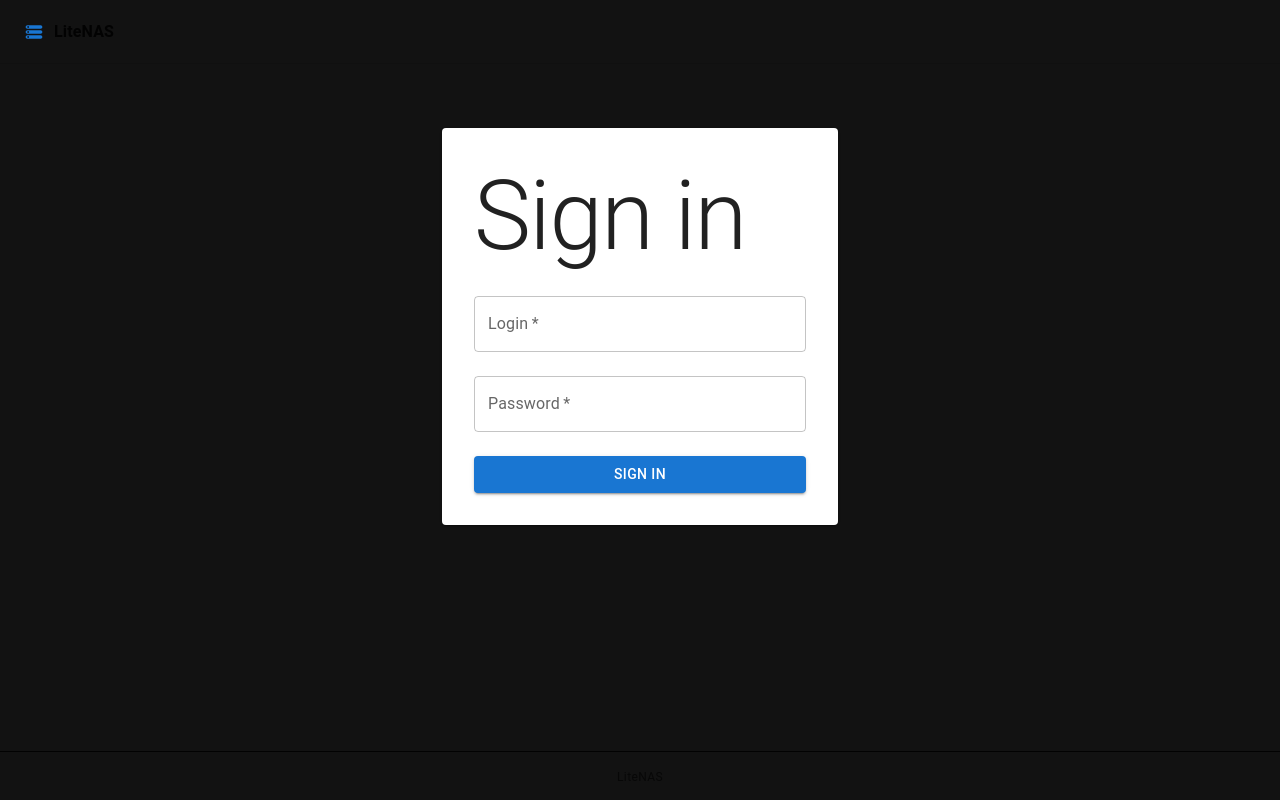
Test case: LoginPage › renders an error when login fails
The image size is (1280, 800).
Type "admin" into the field labelled "Login *".
click(640, 324); type("admin")  # box [474,296,806,352]
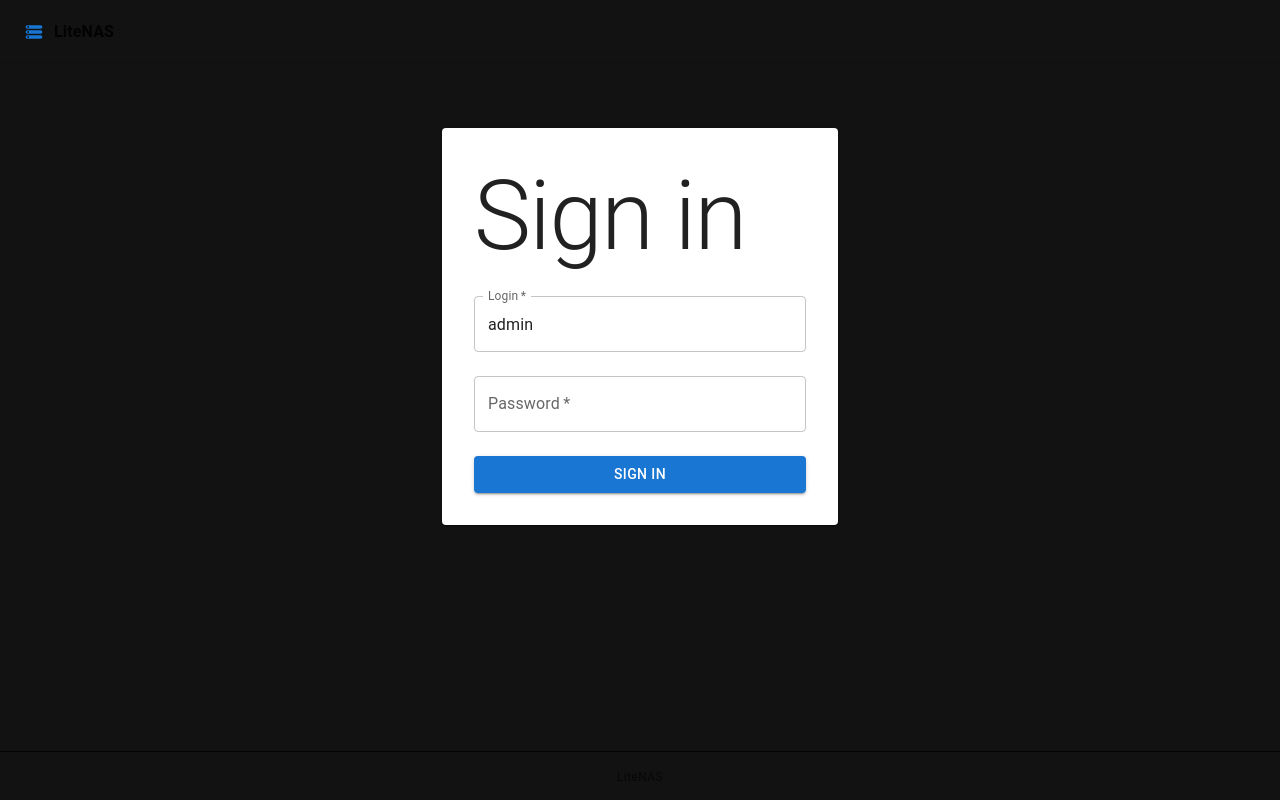
Type "wrong" into the password field labelled "Password *".
click(640, 404); type("wrong")  # box [474,376,806,432]
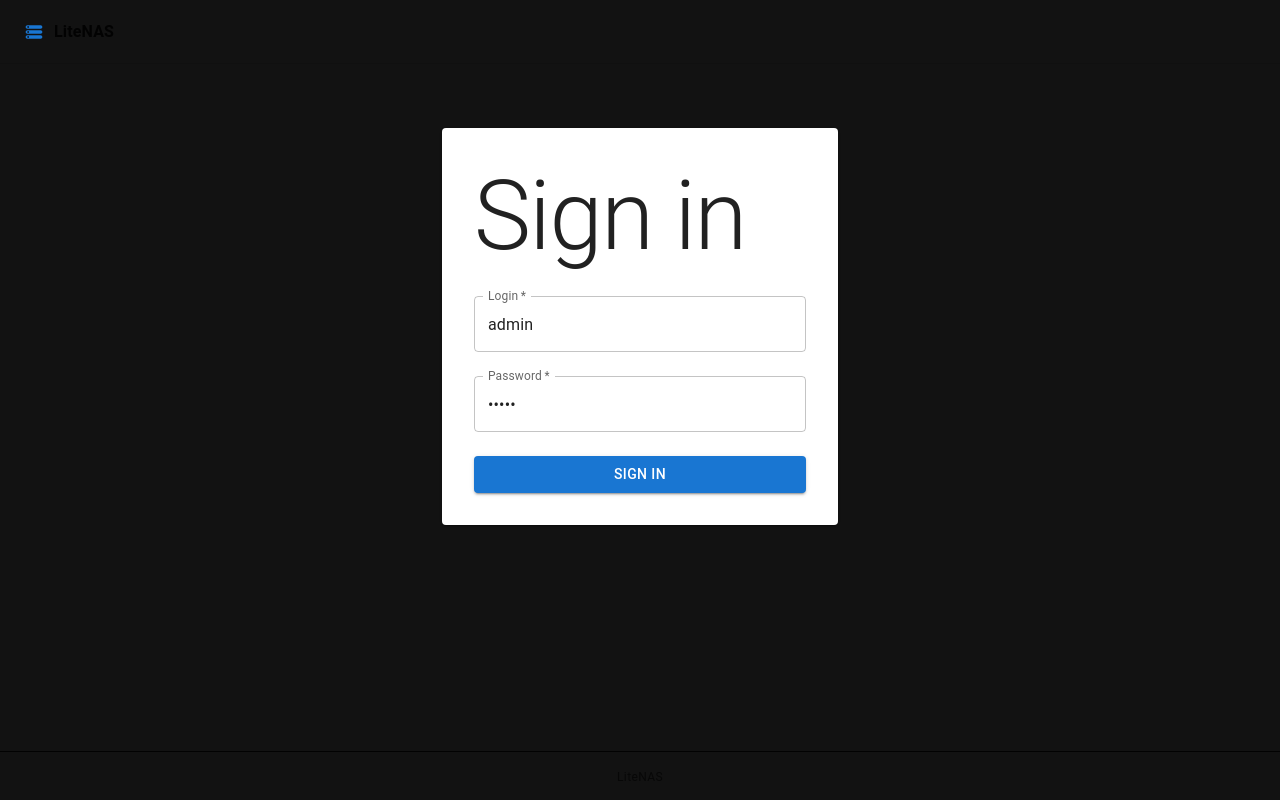
Click the button "Sign in".
click(640, 474)  # box [474,456,806,492]
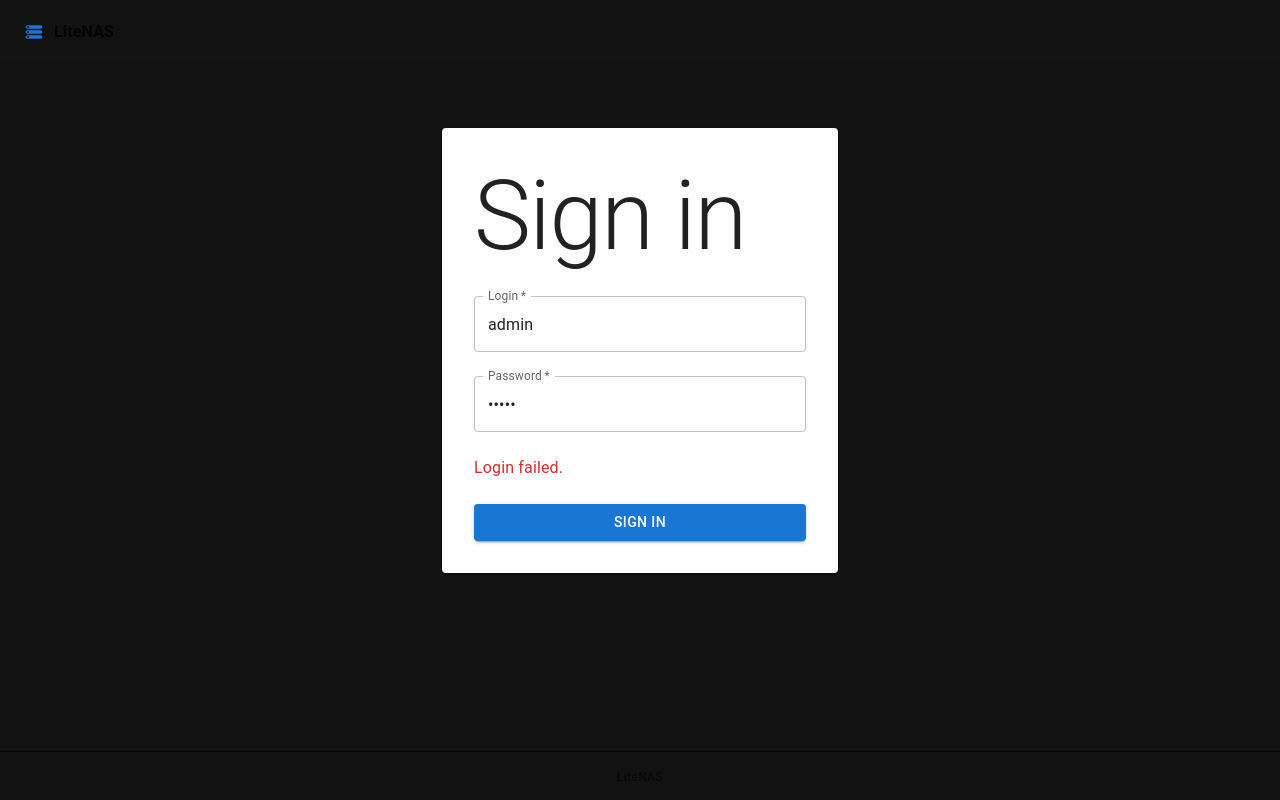
Check: the text "Login failed." is shown, box [474,458,563,477]
